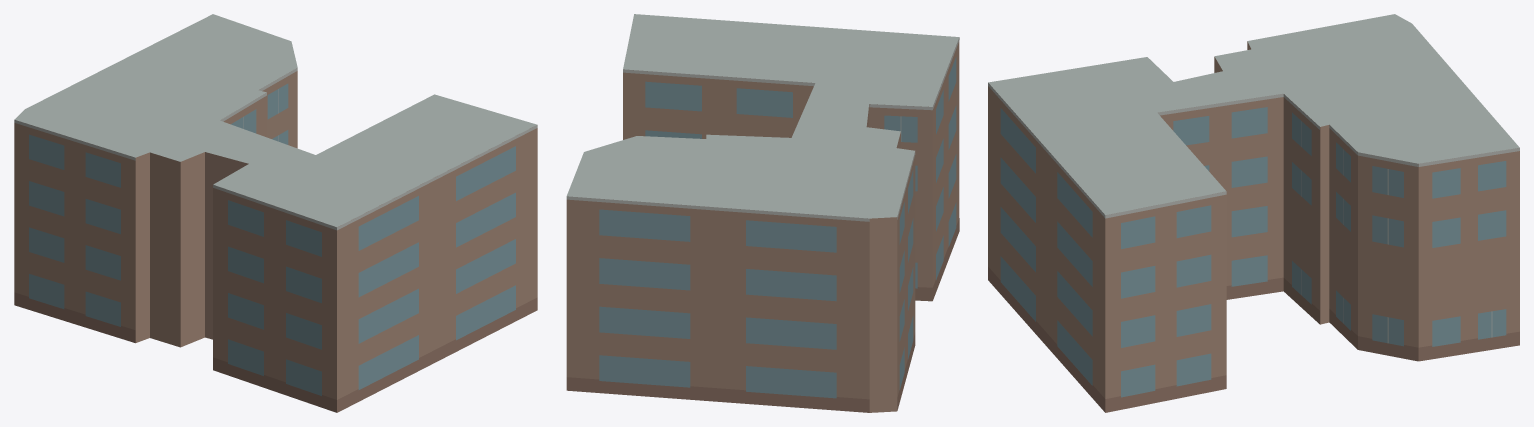
File: survey-upis-32863120.glb
3 views of the same model, side by side, from view 1: azimuth 30°, elevation 25°; view 2: azimuth 150°, elevation 25°; view 3: azimuth 270°, elevation 25° (orthographic). The views are drawn at different scales.
Visible parts, largest first — view 1: survey-upis-32863120.tmp; view 2: survey-upis-32863120.tmp; view 3: survey-upis-32863120.tmp.
Boxes of the visible parts, x1,y1,x2,y2 form: survey-upis-32863120.tmp: [14, 14, 537, 412]; survey-upis-32863120.tmp: [566, 14, 959, 412]; survey-upis-32863120.tmp: [988, 14, 1519, 412].
Bounding box in the file's own units: 31.78 × 14.55 × 35.48.
